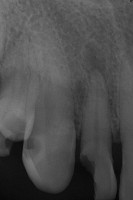Furcation Involvement: (82, 41, 107, 73)
